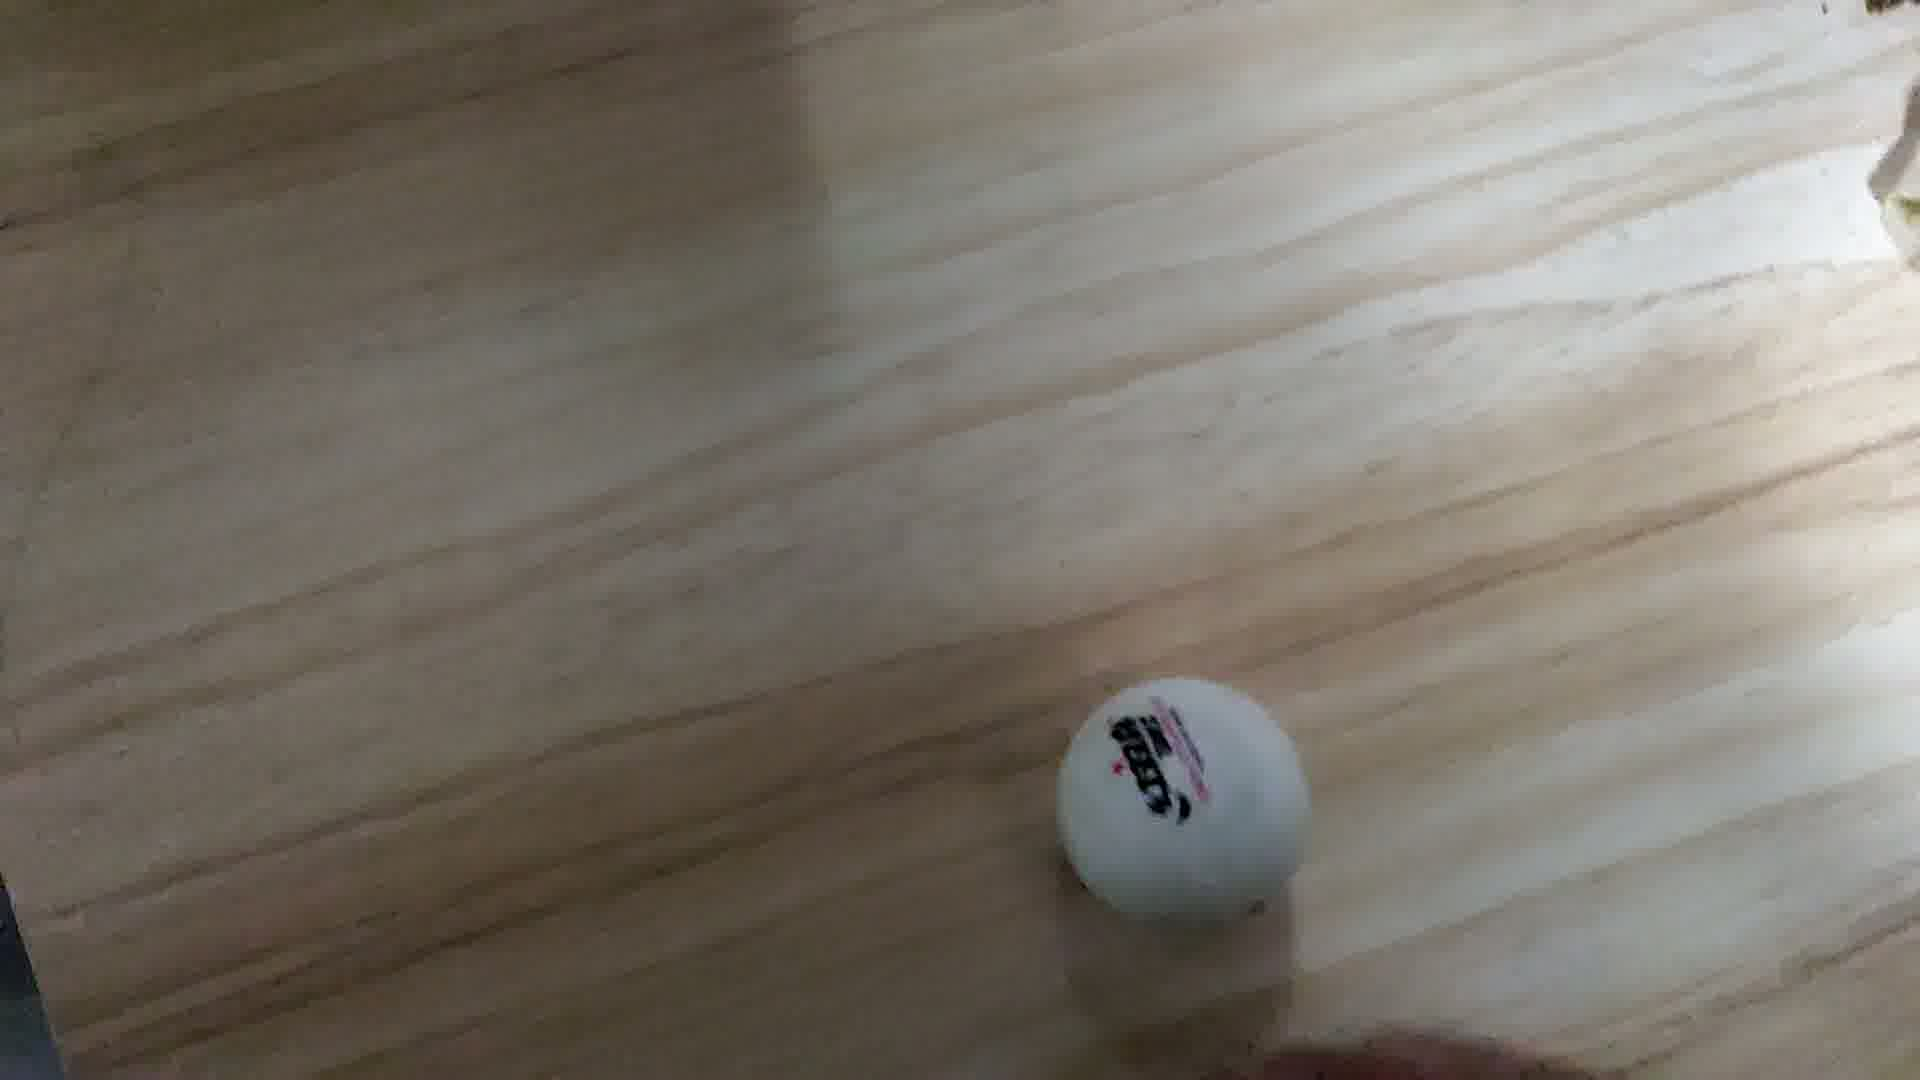Ball: (1054, 674, 1312, 932)
